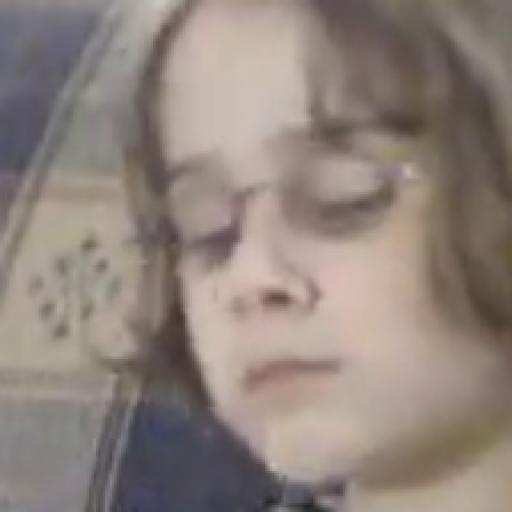Autism: (130, 4, 502, 512)
